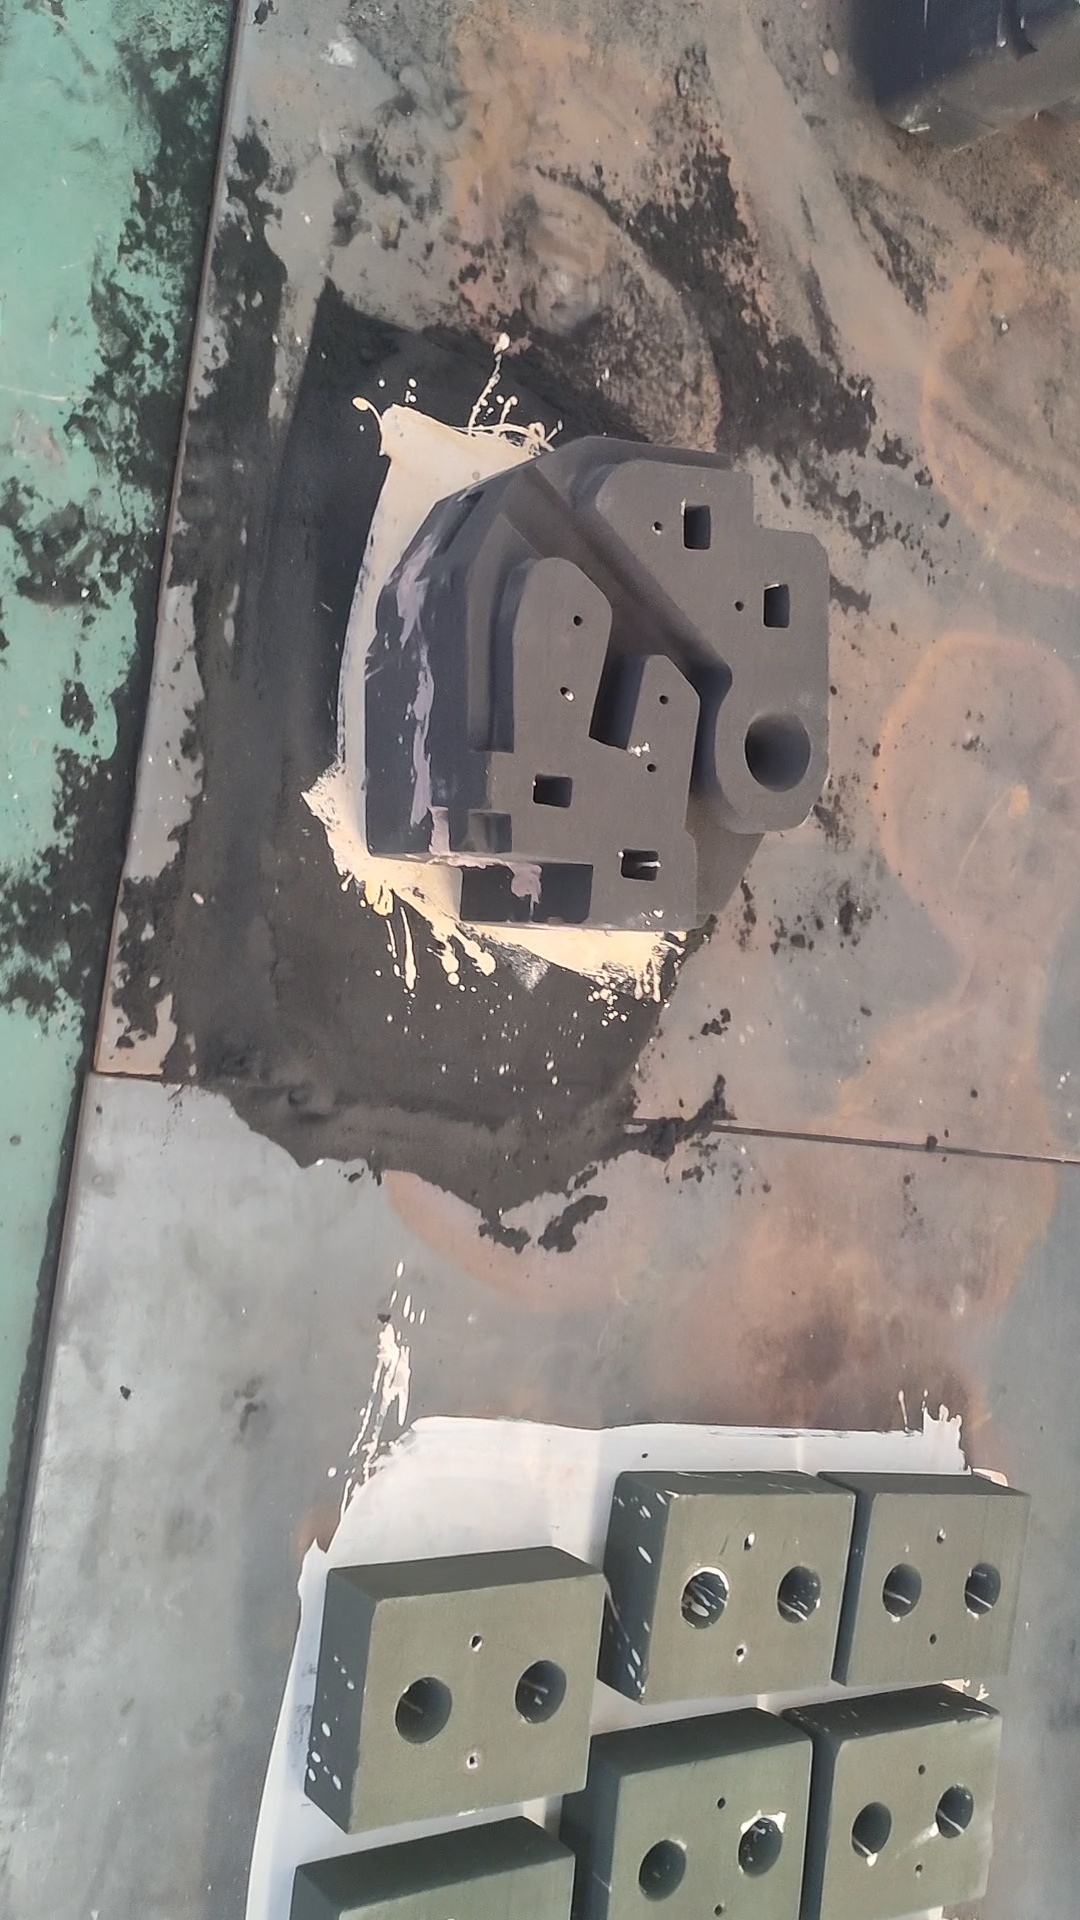pouring hole: (745, 708, 811, 791), (393, 1676, 452, 1745), (514, 1659, 567, 1724), (640, 1838, 686, 1902), (680, 1568, 727, 1630), (737, 1816, 783, 1876), (775, 1567, 822, 1623), (851, 1801, 893, 1859), (880, 1563, 923, 1617), (936, 1785, 975, 1838), (963, 1564, 1000, 1615)
